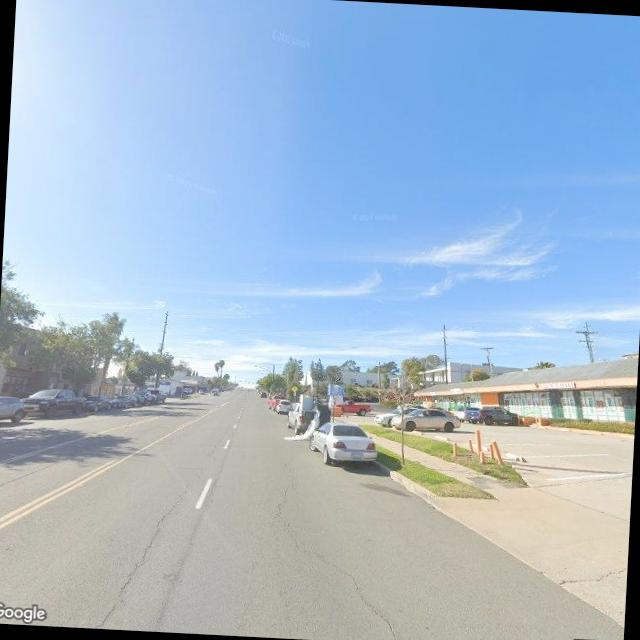pothole: (266, 450, 415, 640), (84, 480, 188, 631)
